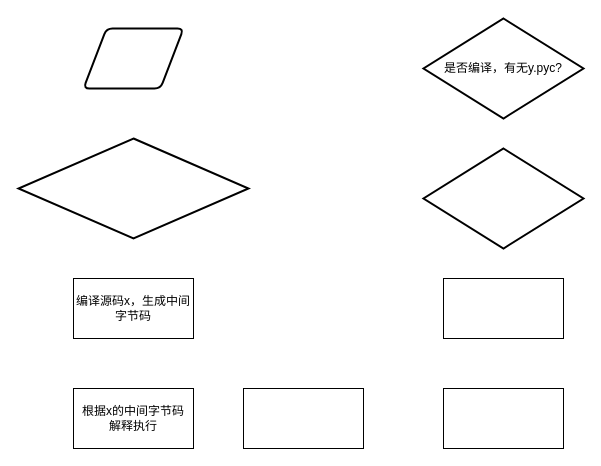
The diagram is 601 pixels wide and 466 high, and some of its shapes have lost their labels. The centre of each missing label's shape, as x and y in pixels:
x.py: point (133, 58)
x程序中有没有使用外部程序 import y?: point (133, 188)
